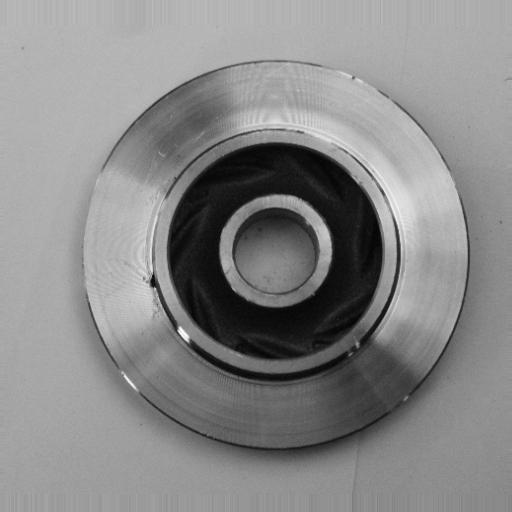crack: (129, 259, 171, 304)
scratch: (342, 325, 375, 368), (173, 312, 203, 356)
unpolished_casting: (82, 56, 471, 452)
